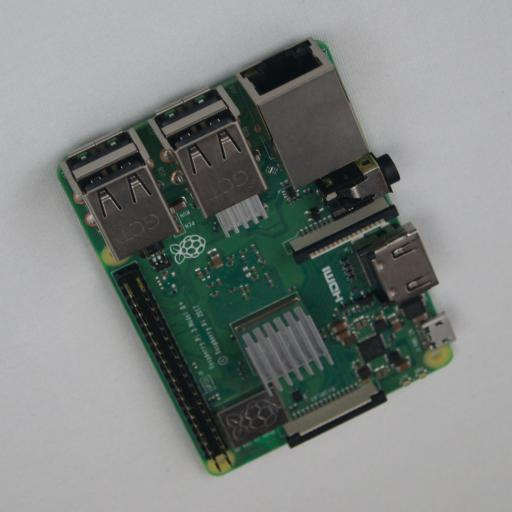Raspberry Pi 3 B-: (56, 37, 452, 475)
